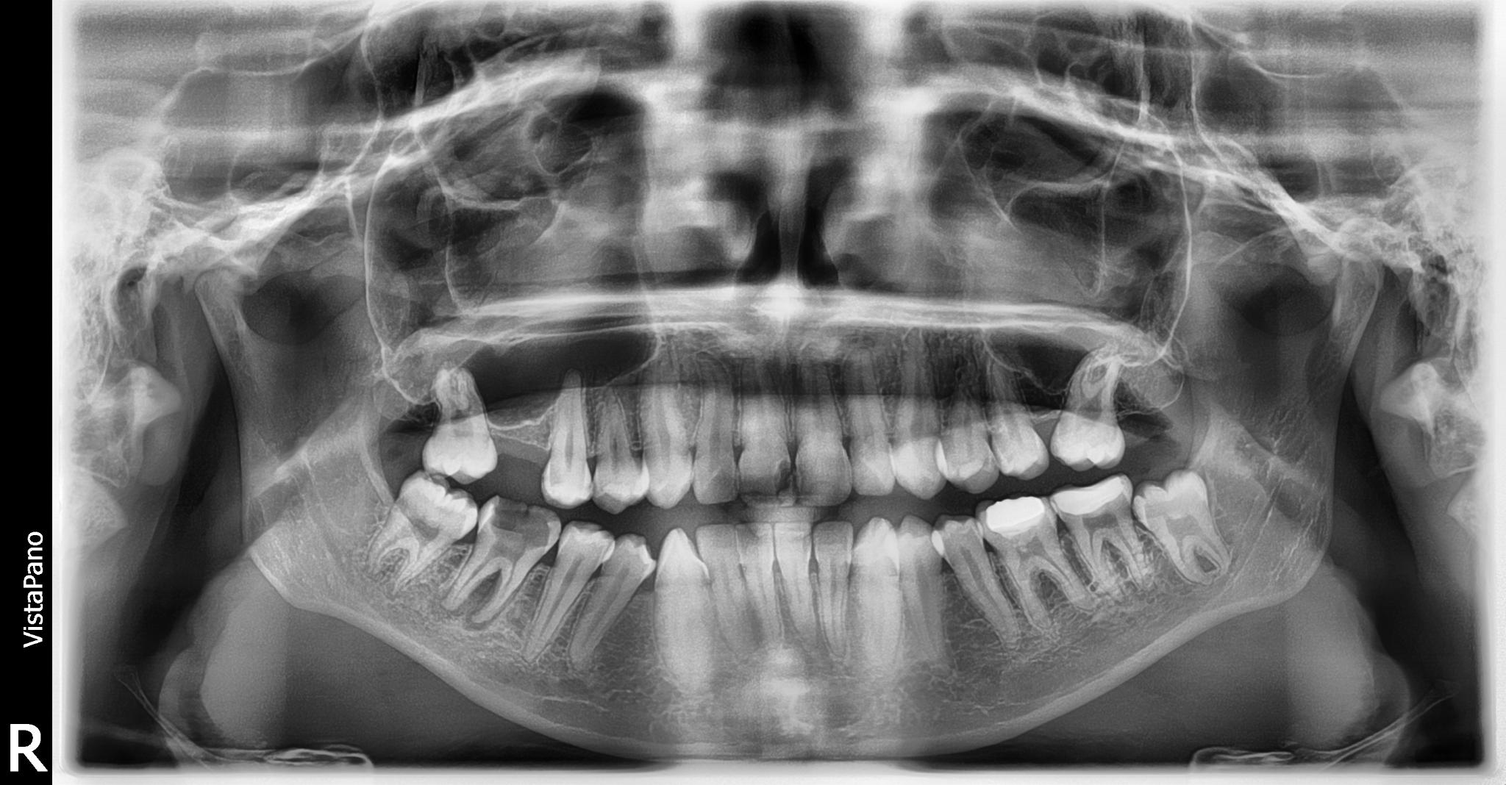Premolars: (570, 223, 1506, 728), (387, 251, 1206, 764), (334, 259, 1133, 769), (258, 246, 819, 758), (247, 245, 706, 785), (205, 286, 636, 785)
